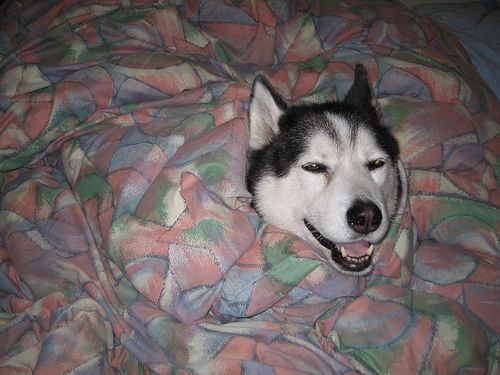dog: (237, 58, 404, 278)
